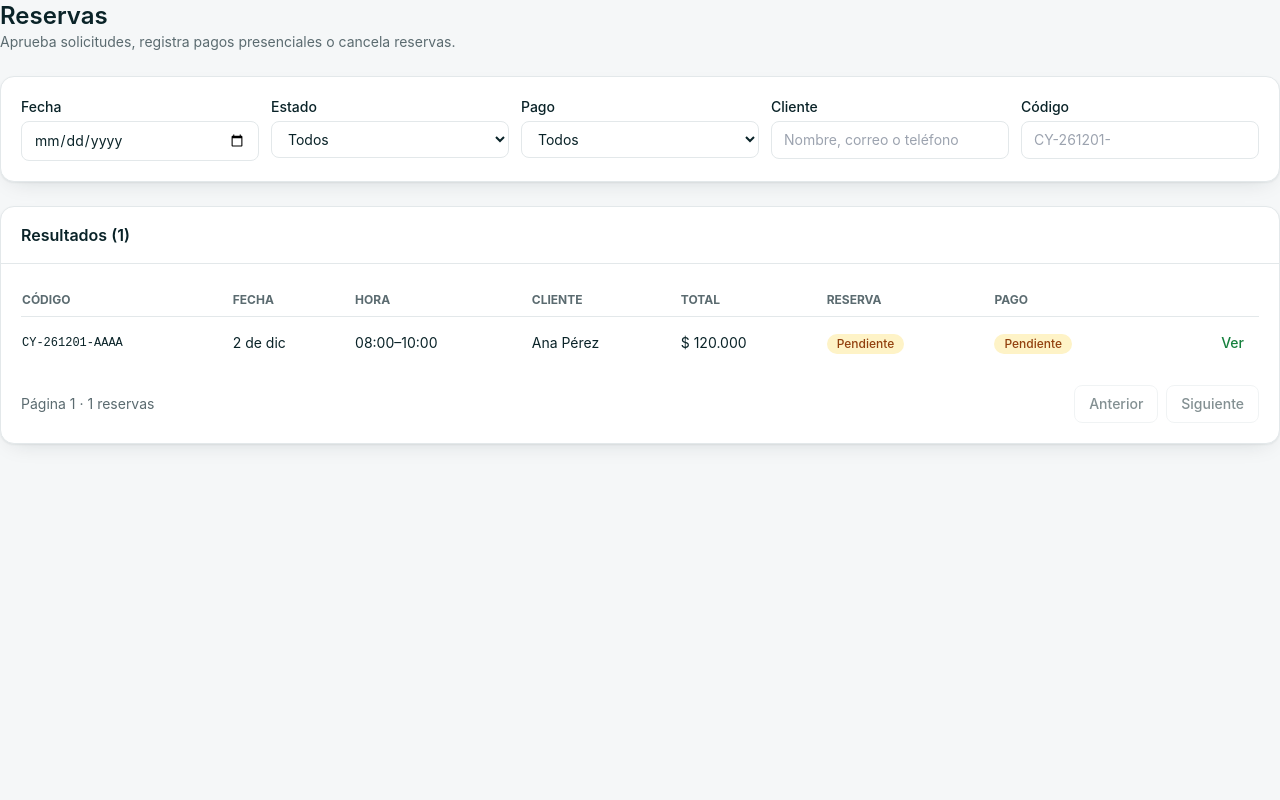
Test case: ReservasPage › muestra 409 estado_invalido al aprobar una reserva ya cambiada
Click the button "Ver" at (1233, 343), box top-left (1207, 325), bottom-right (1258, 361)
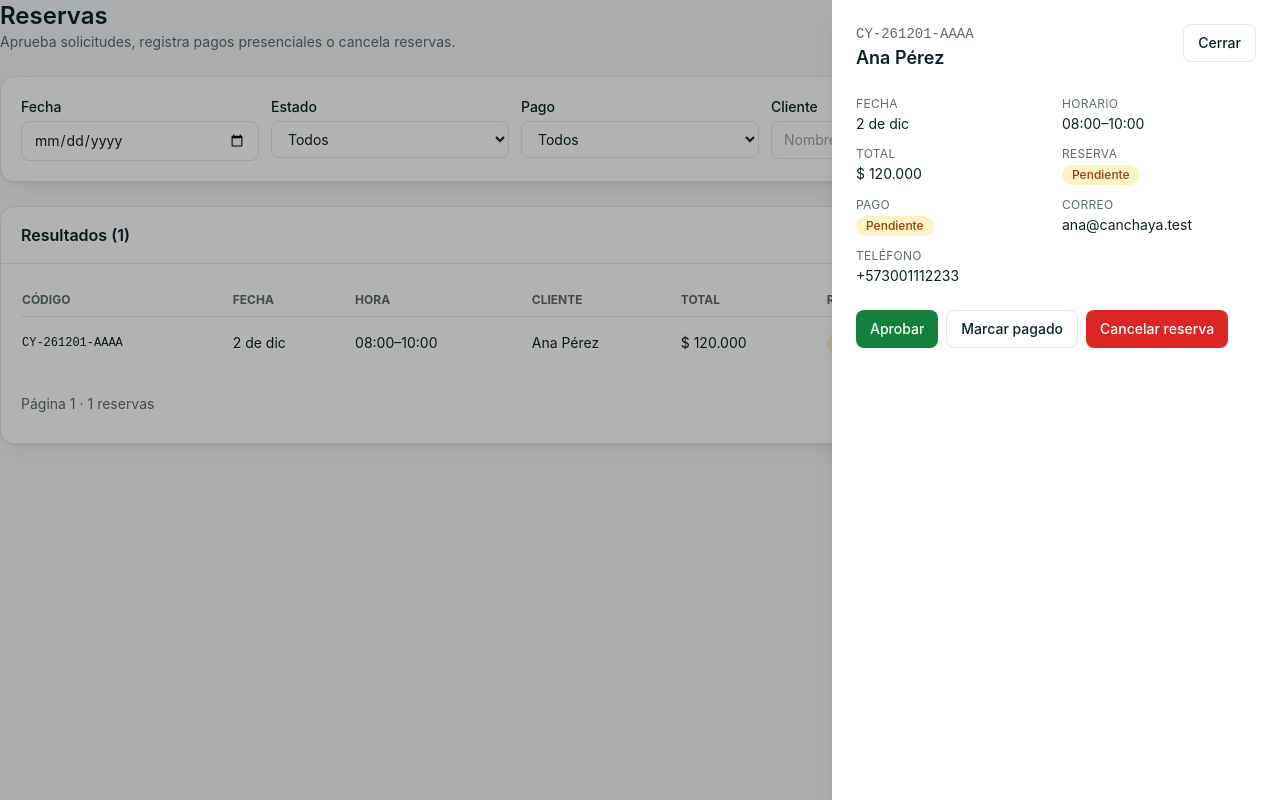
Click the button "Aprobar" at (897, 329), box top-left (856, 310), bottom-right (938, 348)
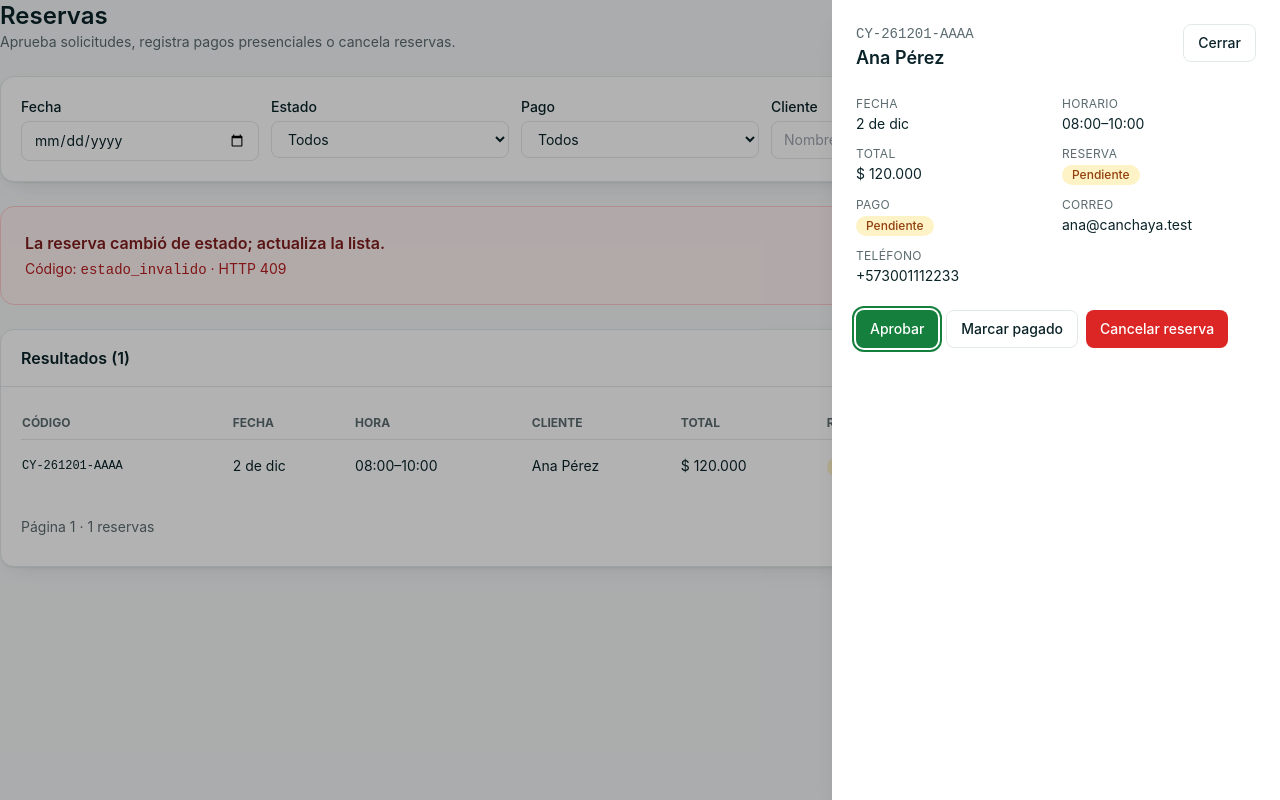
Now the message with test id "error-api-409" shows "cambió de estado", box top-left (25, 233), bottom-right (385, 253)
